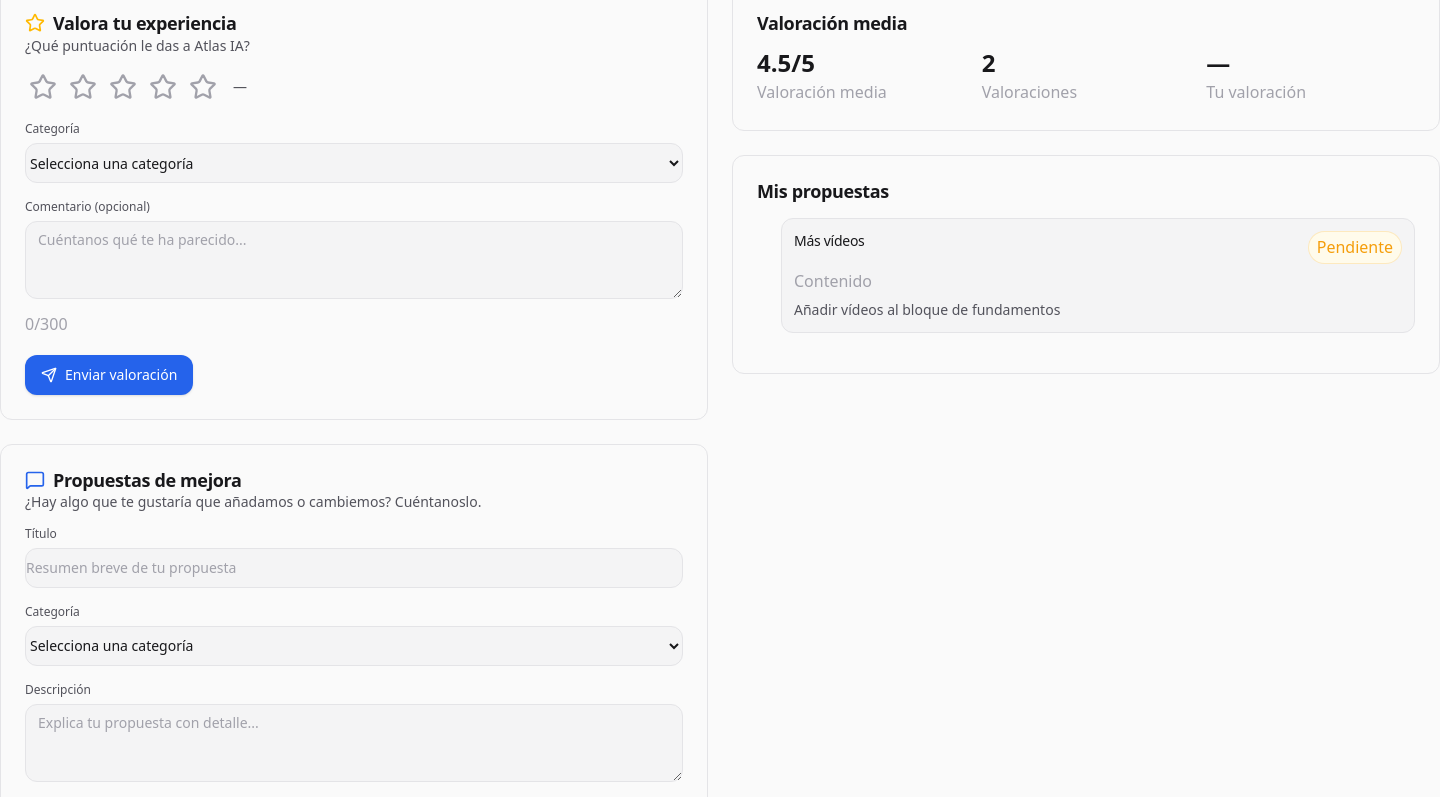
it: ValoracionContent › muestra error si la propuesta no tiene descripción
Step 1. Type "Sin descripción" into the field with placeholder "Resumen breve de tu propuesta" → (354, 568), box 25,548 -> 683,588
(page scrolled)
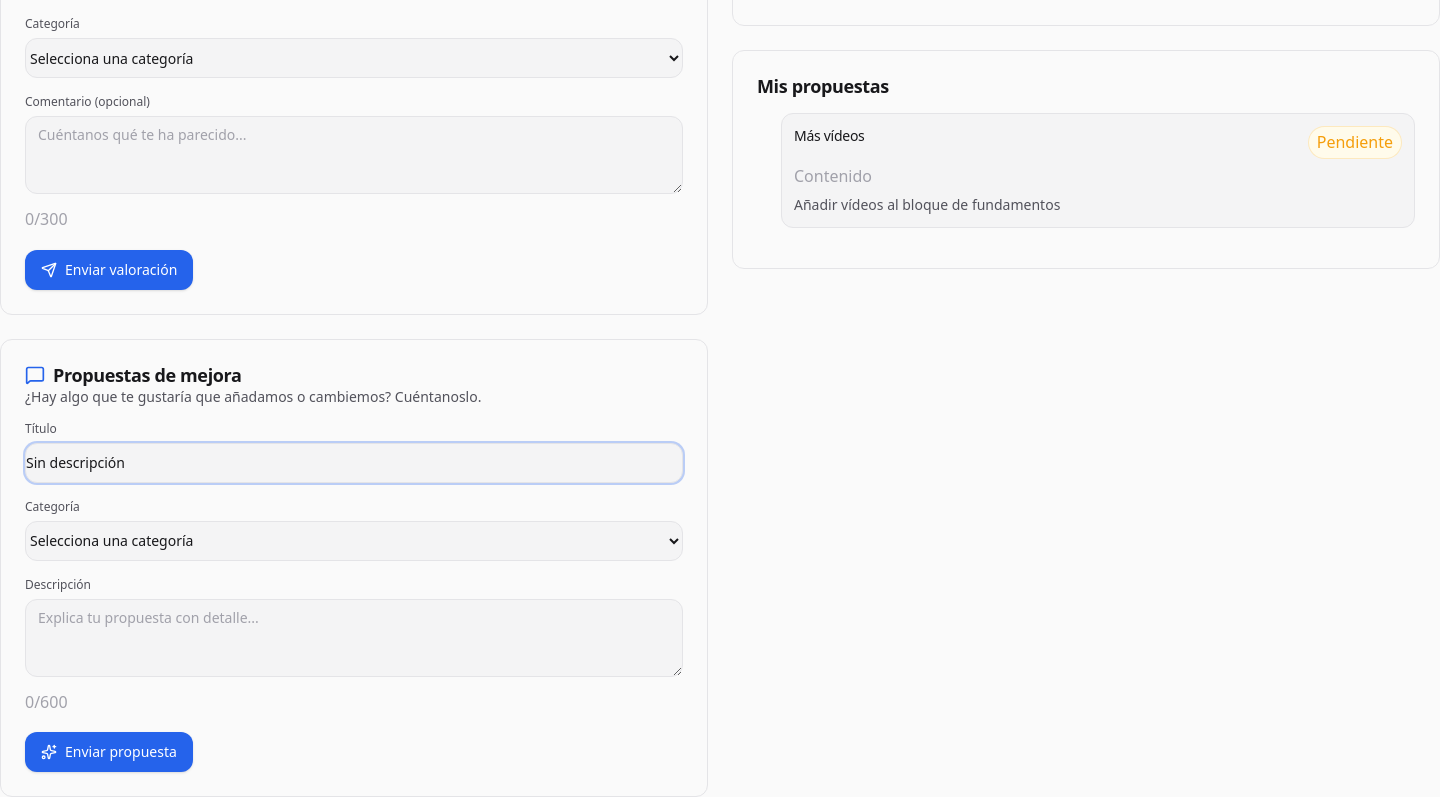
Step 2. Click the button "Enviar propuesta" → (109, 752), box 25,732 -> 193,772
(page scrolled)
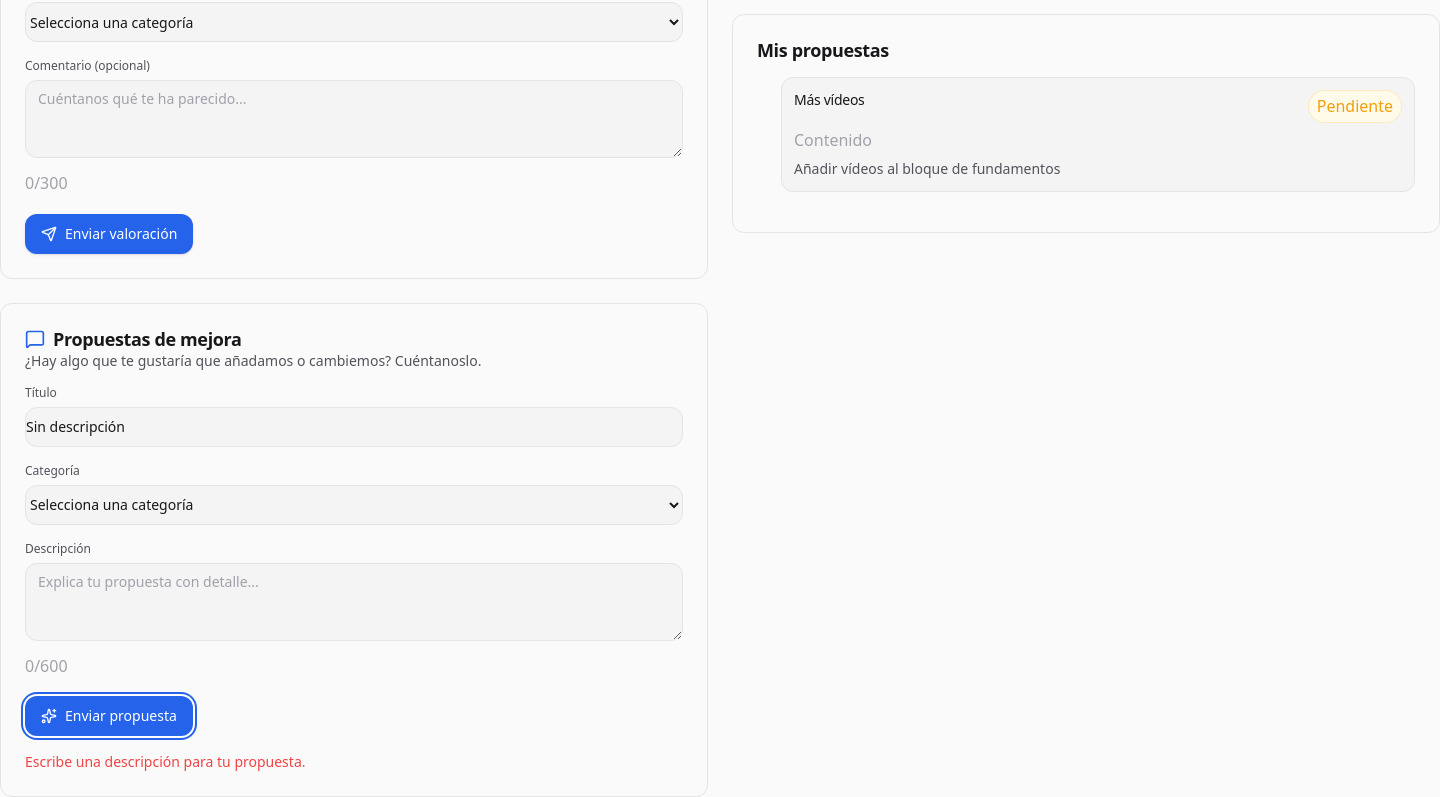
Now the text "Escribe una descripción para tu propuesta." is shown, box 25,752 -> 306,771
